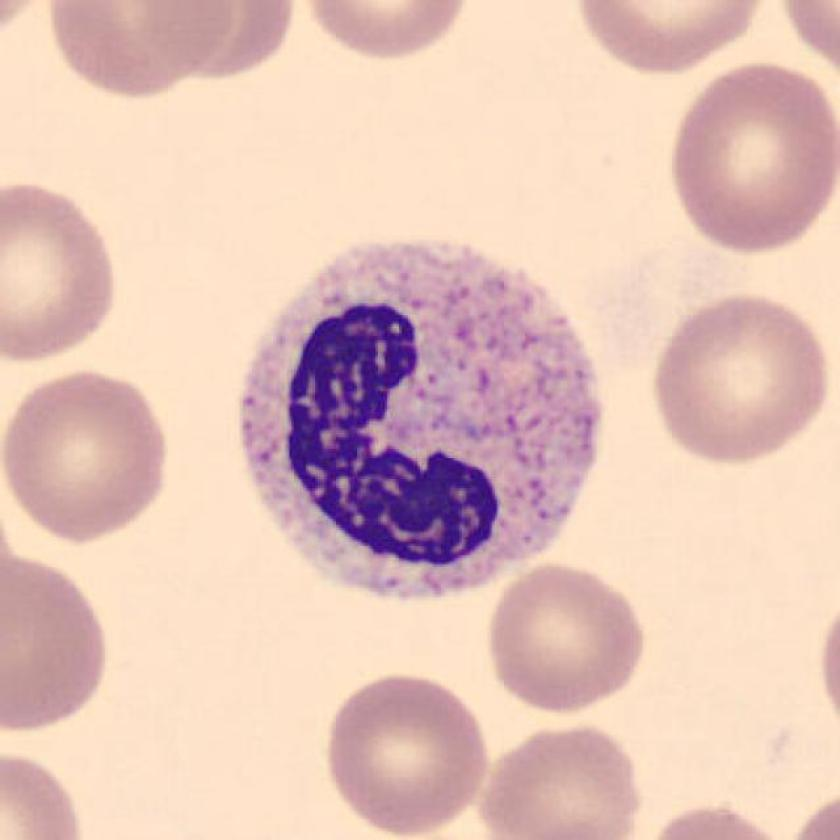neutrophil: (243, 240, 604, 601)
